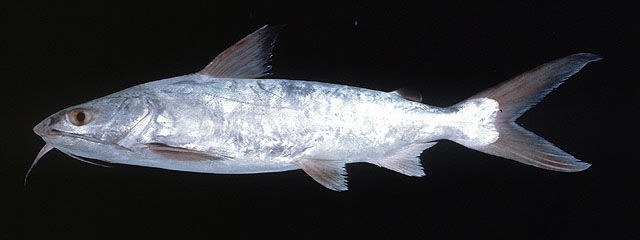fish: (32, 23, 604, 192)
